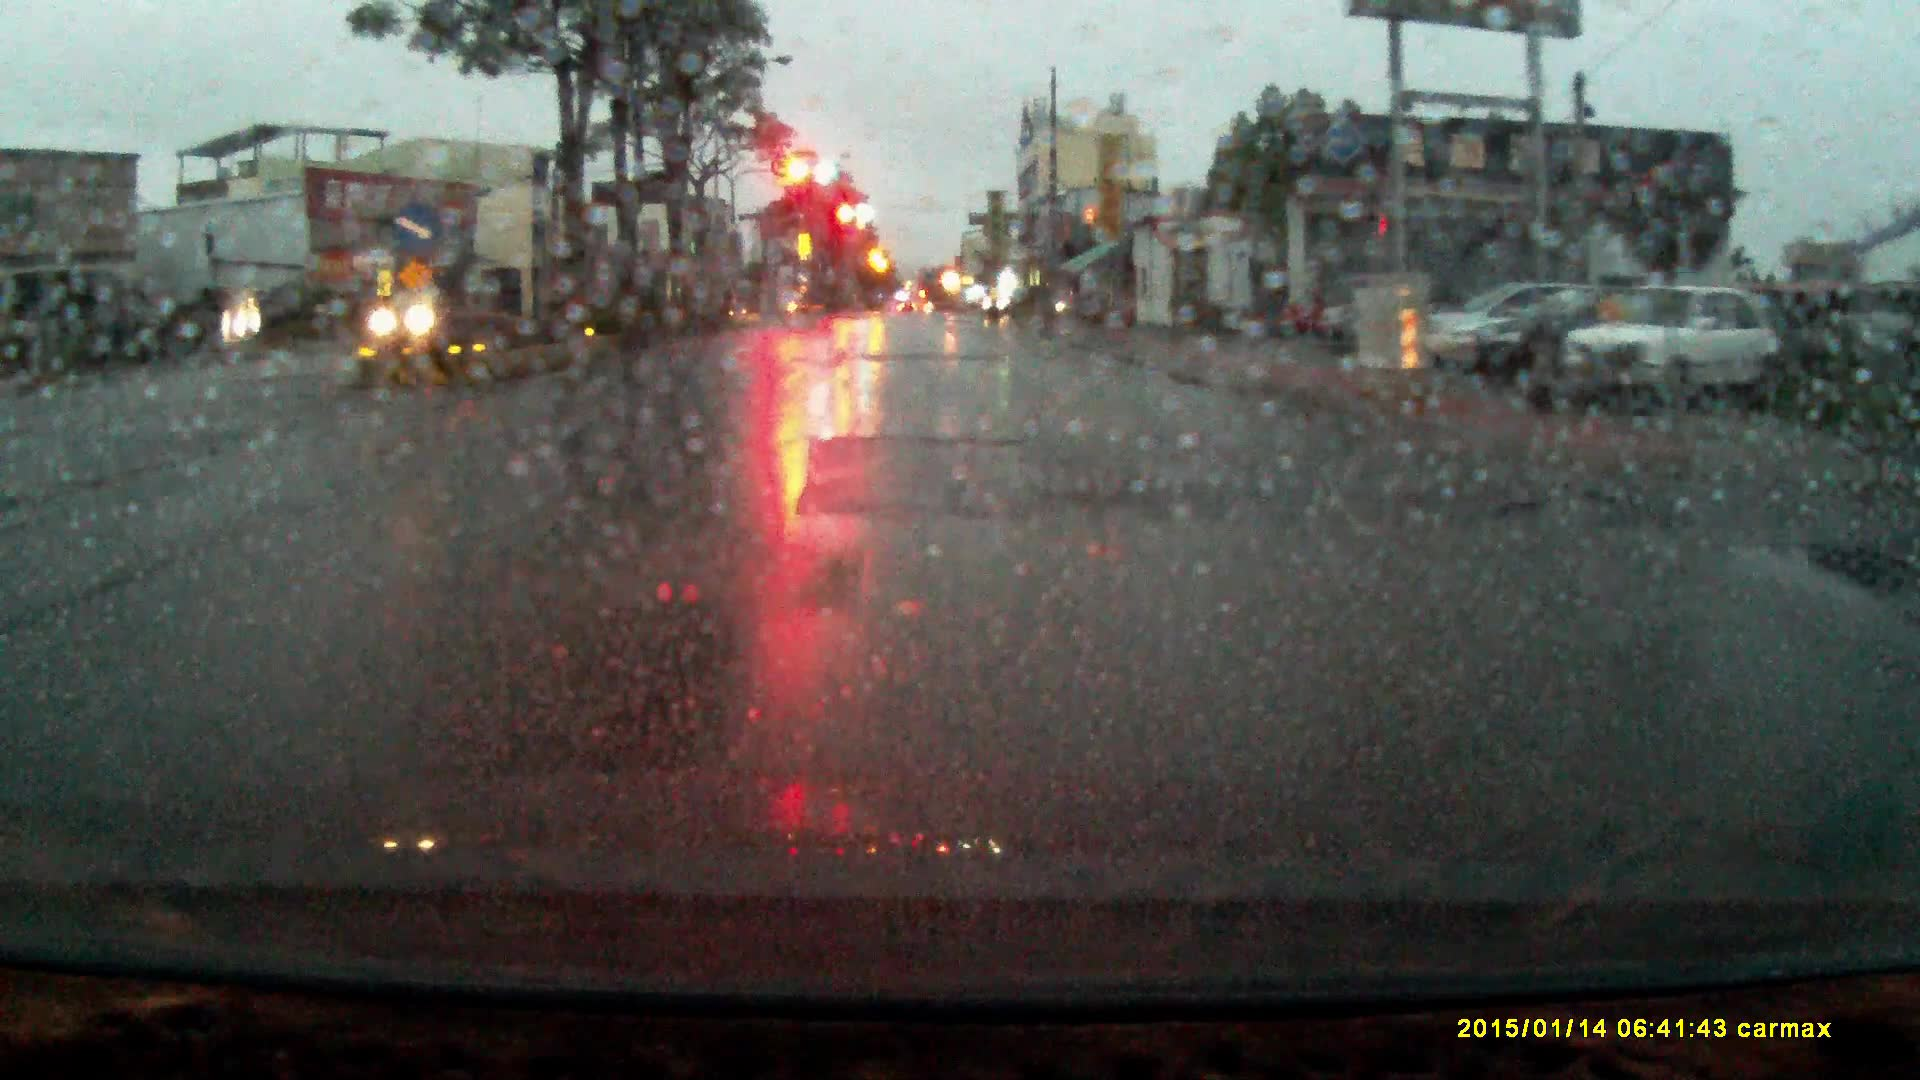vehicle: (1556, 284, 1768, 413), (1455, 286, 1648, 386), (1427, 287, 1563, 367), (368, 289, 465, 351), (978, 286, 1058, 323)
